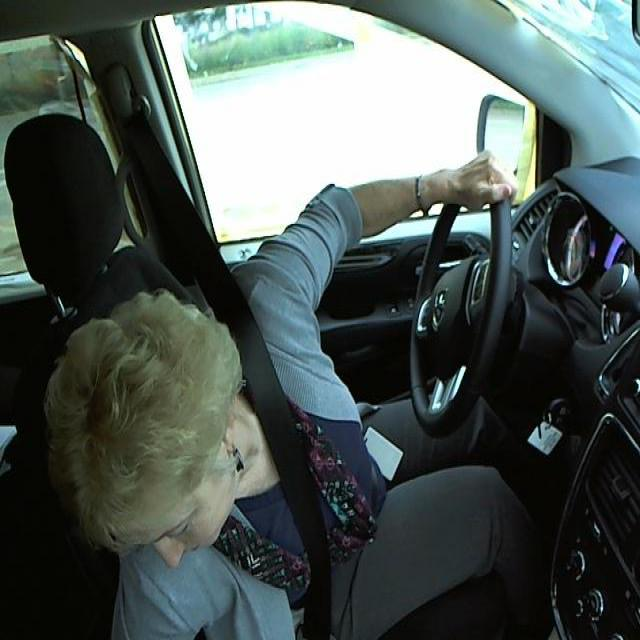seatbelt: (212, 277, 367, 639)
